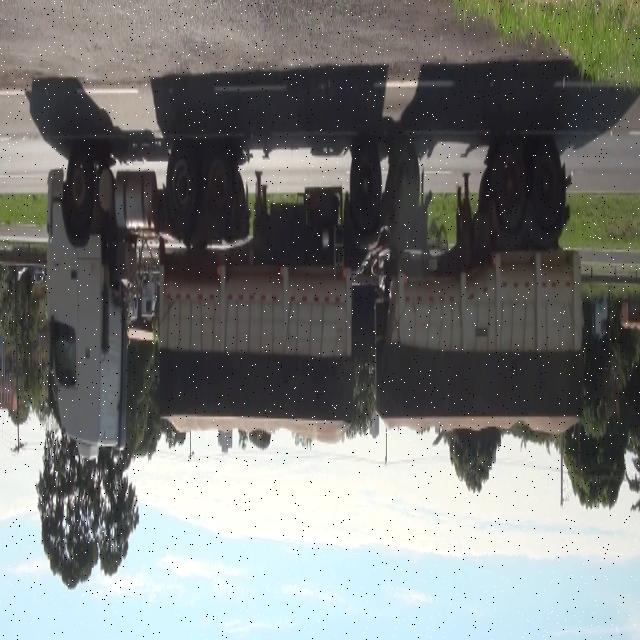-axle: (347, 142, 383, 239), (496, 146, 532, 235), (198, 141, 232, 232), (386, 144, 421, 232), (166, 138, 198, 231), (534, 142, 564, 238), (65, 150, 93, 227)
